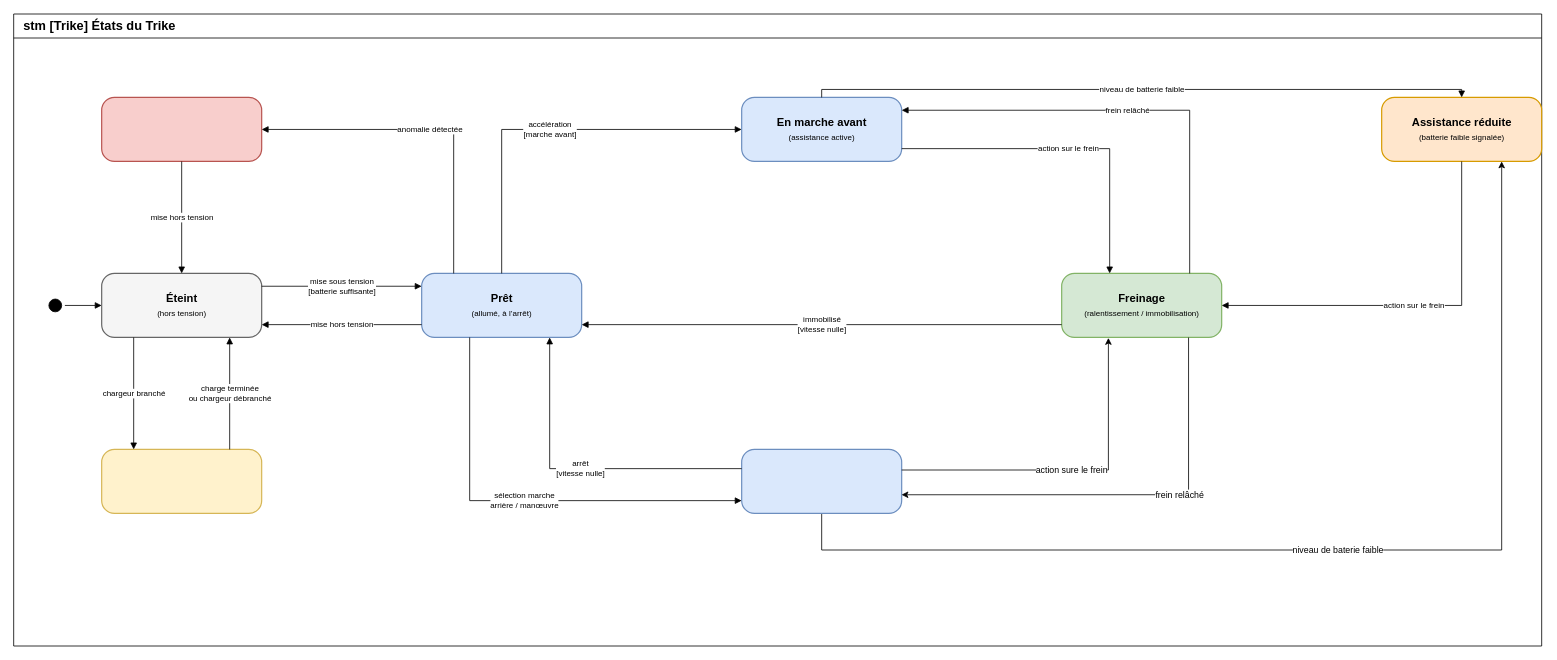
Image size: 1557x660. Some labels were removed from this diagram. Here are the shapes that lost their labels. From the top down, the box of each, then its label:
(101, 96, 262, 162): Défaut / anomalie (signalée à l’utilisateur)
(101, 448, 262, 514): En charge (batterie en recharge)
(741, 448, 902, 514): Manœuvre / marche arrière (faible vitesse)
